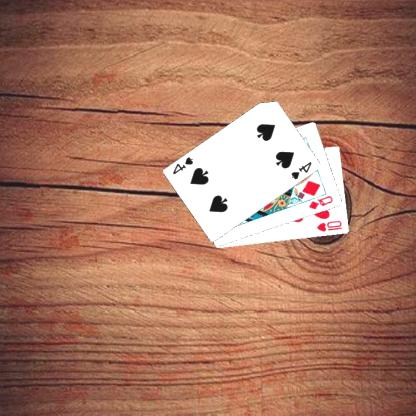10H: (316, 218, 345, 233)
4S: (290, 159, 315, 181), (172, 154, 197, 176)
QD: (308, 193, 336, 211)
